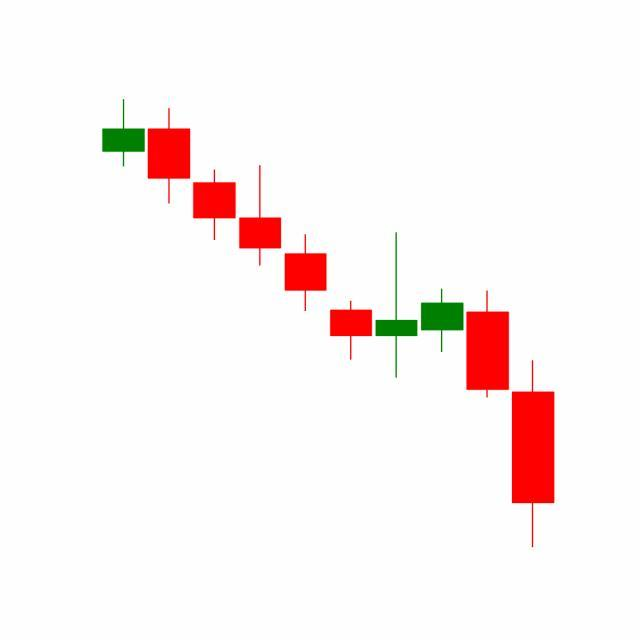Hikkake Pattern: (283, 231, 512, 401)
